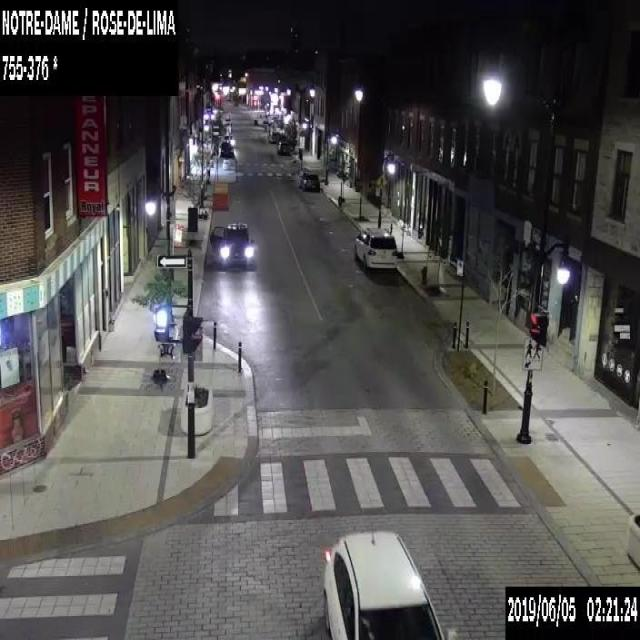vehicle: (321, 526, 446, 638), (209, 222, 254, 270), (353, 226, 397, 271), (298, 172, 319, 192), (219, 140, 233, 157), (276, 140, 290, 154), (268, 132, 277, 142)
